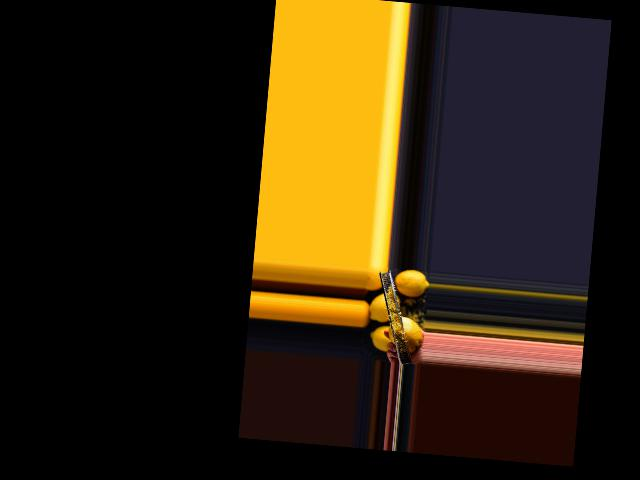lemon: (393, 269, 429, 303)
